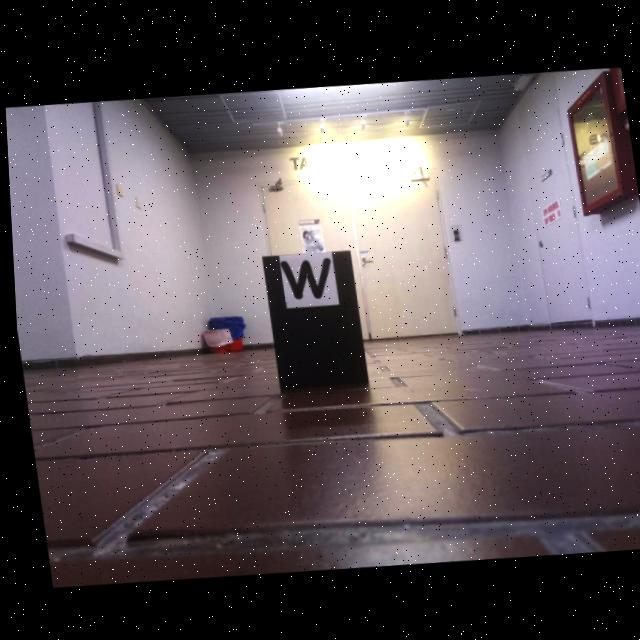W: (277, 255, 329, 298)
